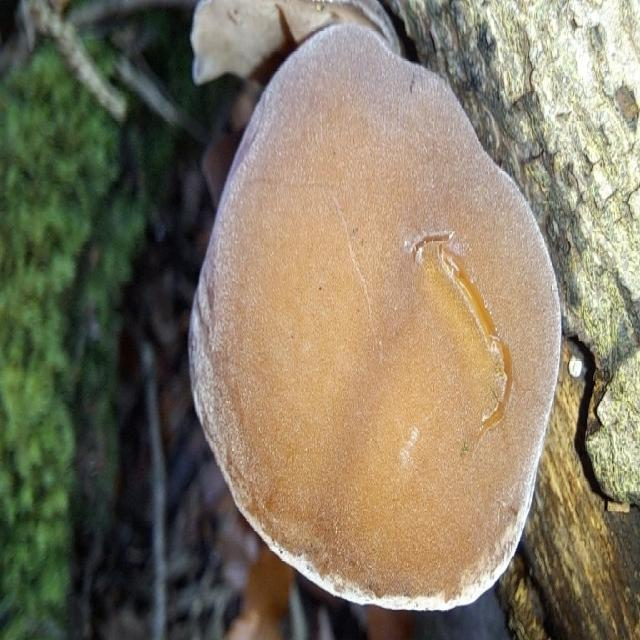Matang: (178, 16, 568, 627)
